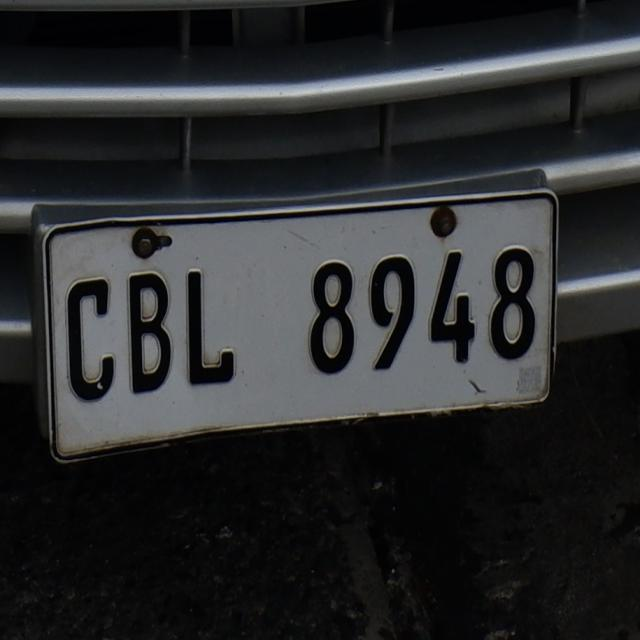LicensePlate: (31, 197, 570, 455)
